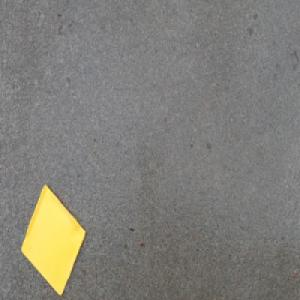PlasticPart: (20, 181, 87, 287)
